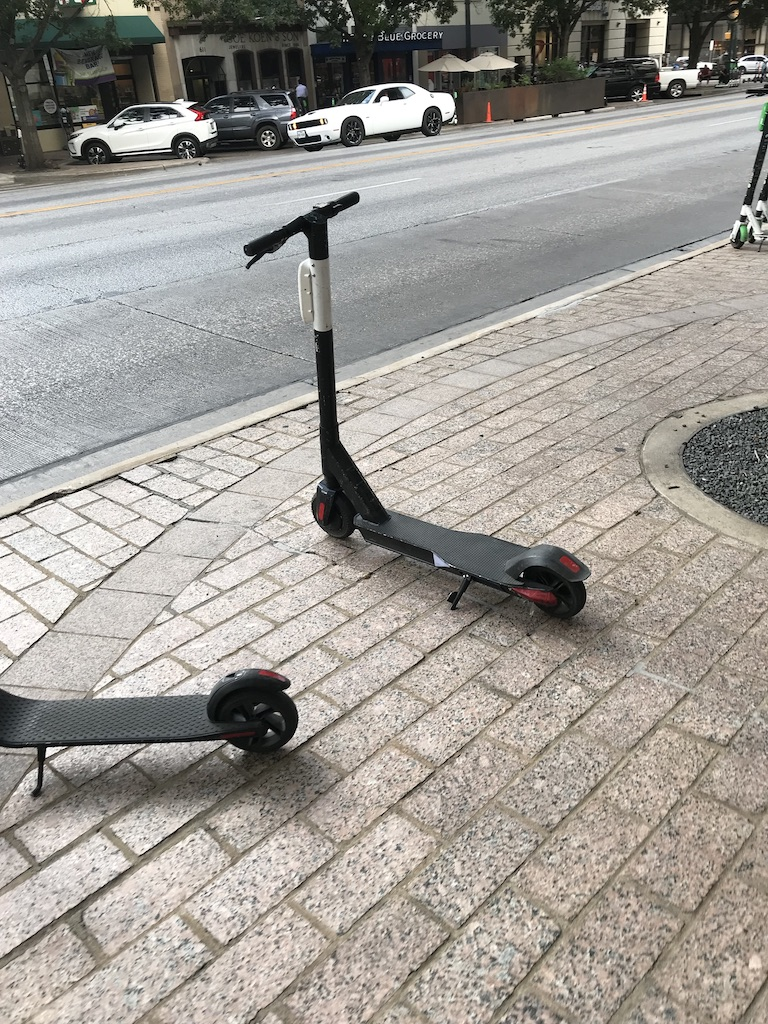scooter: (242, 192, 592, 621), (2, 667, 300, 798), (731, 89, 765, 248)
